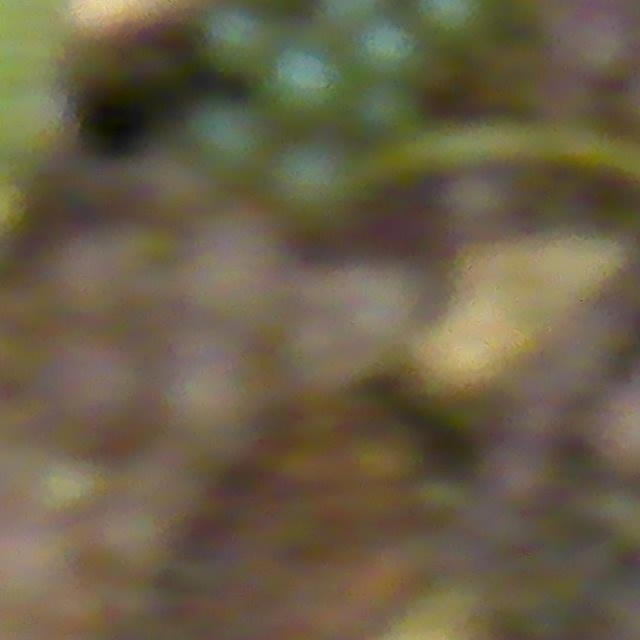SeaGrape: (182, 94, 274, 190), (261, 44, 343, 139), (279, 143, 361, 235), (197, 7, 269, 79), (351, 16, 422, 84), (356, 82, 425, 143), (420, 0, 487, 41)
